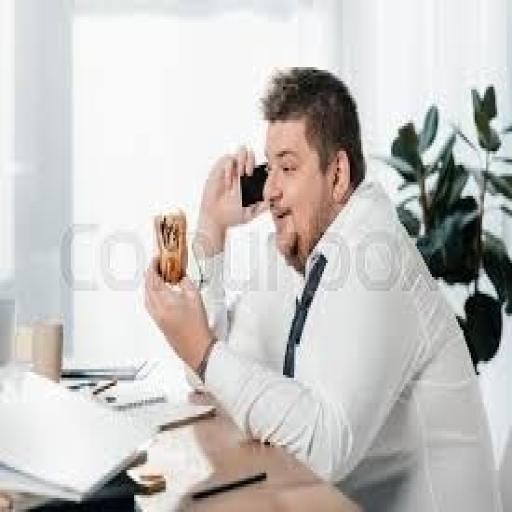eating: (140, 62, 500, 509)
